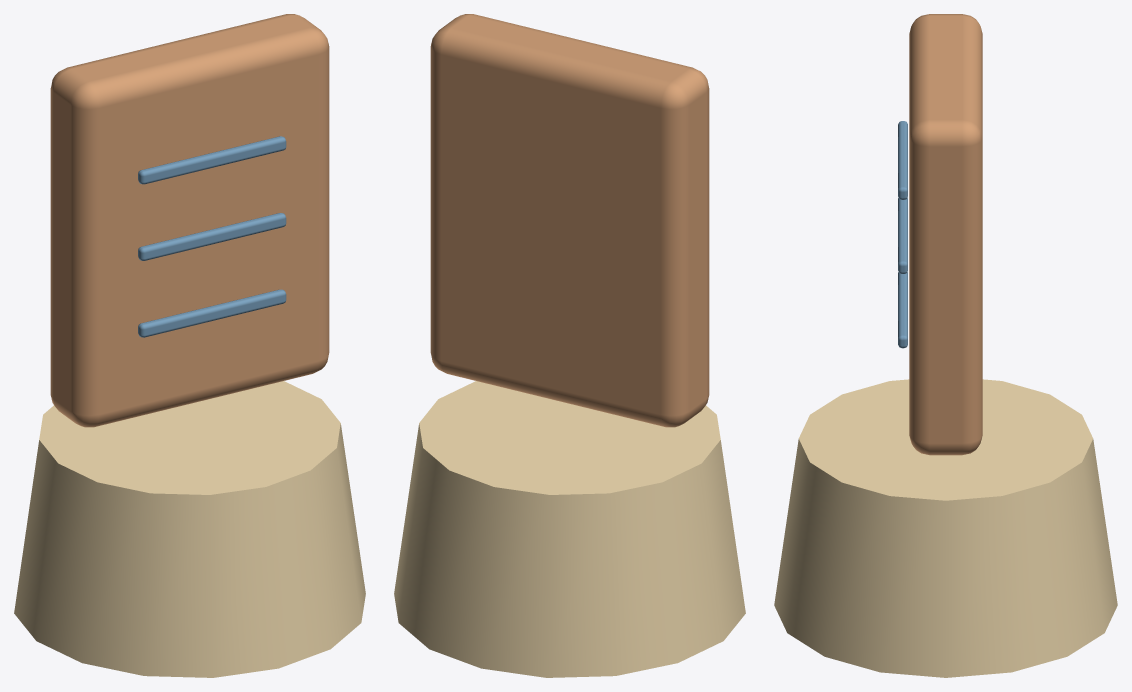
The model's file is tablet-plain.glb.
3 views of the same model, side by side, from view 1: azimuth 30°, elevation 25°; view 2: azimuth 150°, elevation 25°; view 3: azimuth 270°, elevation 25° (orthographic). The views are drawn at different scales.
Parts seen in each view (by area): view 1: Tablet, Pedestal, Inscription3, Inscription1, Inscription2; view 2: Tablet, Pedestal; view 3: Pedestal, Tablet, Inscription1, Inscription3, Inscription2.
Boxes of the visible parts, <box> form: Tablet: <box>50,14,329,427</box>; Pedestal: <box>14,381,365,677</box>; Inscription3: <box>138,289,286,337</box>; Inscription1: <box>138,136,286,184</box>; Inscription2: <box>138,213,286,260</box>; Tablet: <box>430,14,709,427</box>; Pedestal: <box>394,381,745,677</box>; Pedestal: <box>774,379,1117,677</box>; Tablet: <box>909,14,982,455</box>; Inscription1: <box>898,121,907,199</box>; Inscription3: <box>898,272,907,348</box>; Inscription2: <box>898,198,907,273</box>.
Size of the model in its own units: 0.84 by 1.45 by 0.84.
